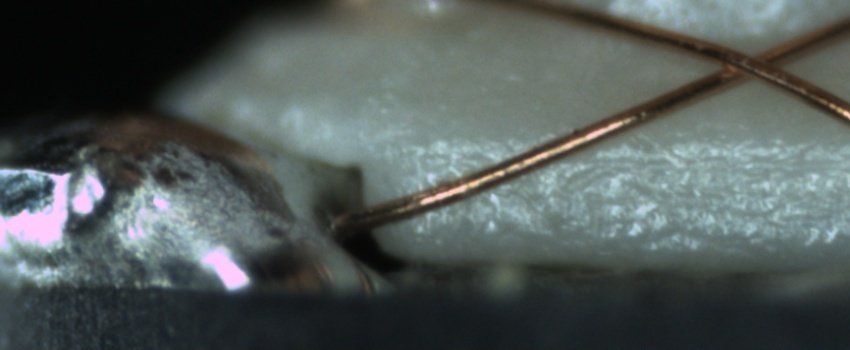CL: (708, 37, 801, 89)
DL: (431, 127, 850, 189)
